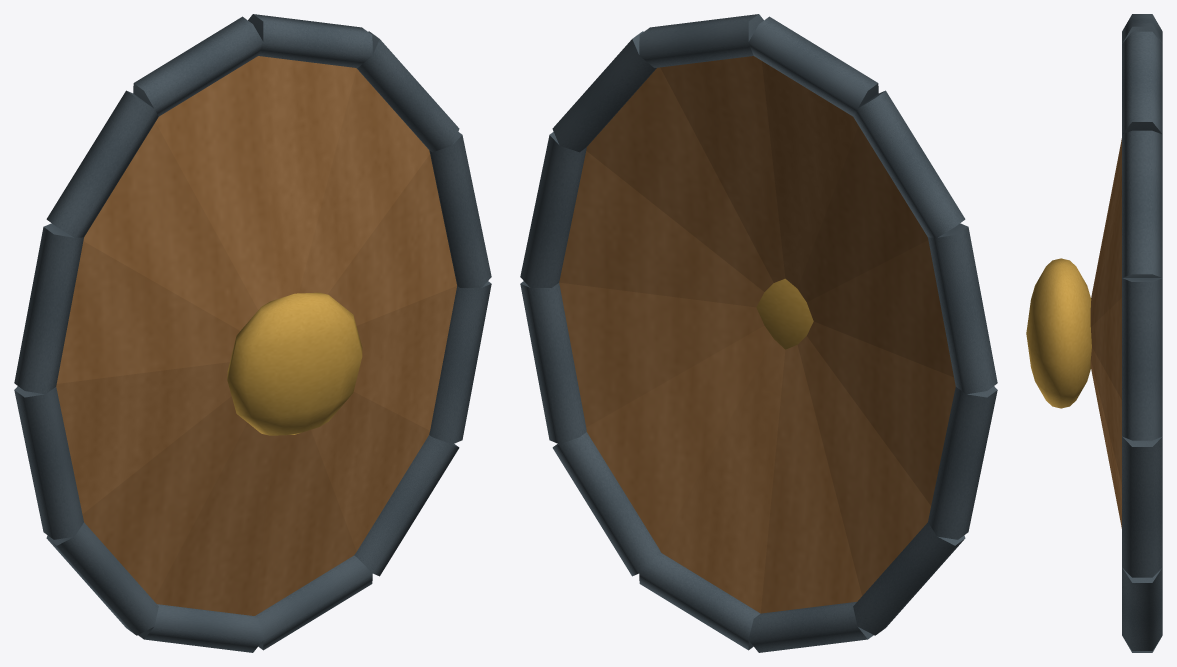
The model's file is shield.glb.
3 views of the same model, side by side, from view 1: azimuth 30°, elevation 25°; view 2: azimuth 150°, elevation 25°; view 3: azimuth 270°, elevation 25° (orthographic). The views are drawn at different scales.
Parts seen in each view (by area): view 1: shield; view 2: shield; view 3: shield.
Part boxes in pixels (x1,y1,x2,y2): shield: (14,14,491,652); shield: (520,14,997,652); shield: (1026,14,1162,652).
Bounding box in the file's own units: 0.8994 × 1.16 × 0.235.
3 materials, 3 textured.
